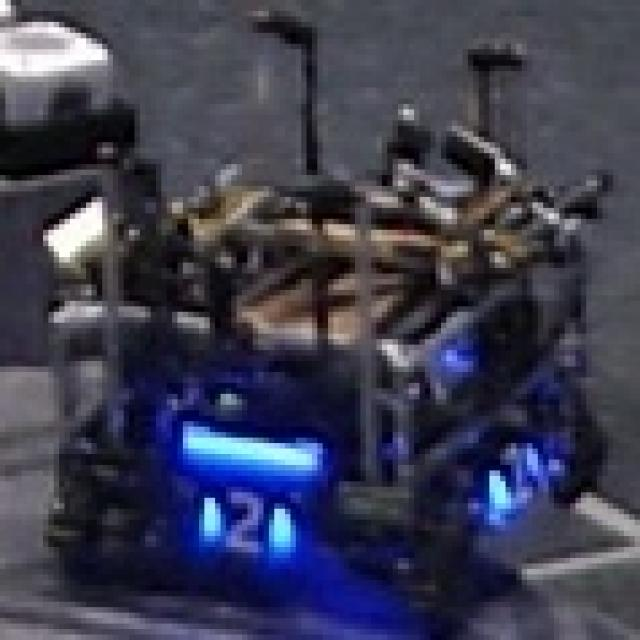B2: (188, 487, 307, 563), (476, 440, 546, 522)
